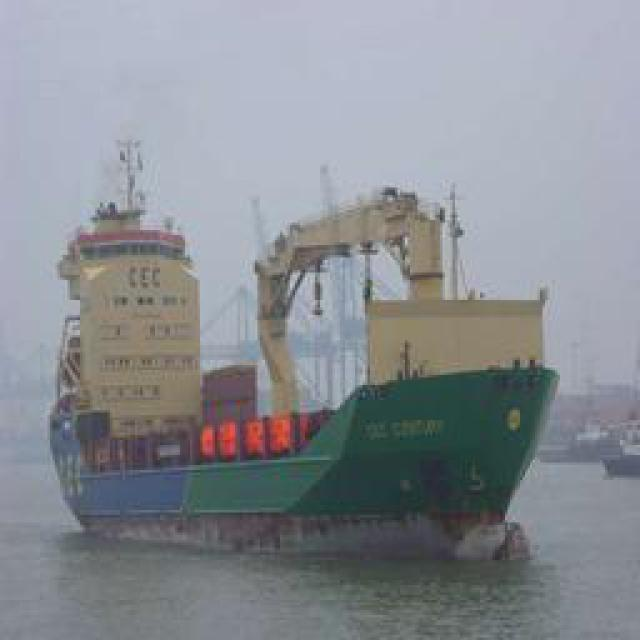Ship: (44, 255, 577, 568)
